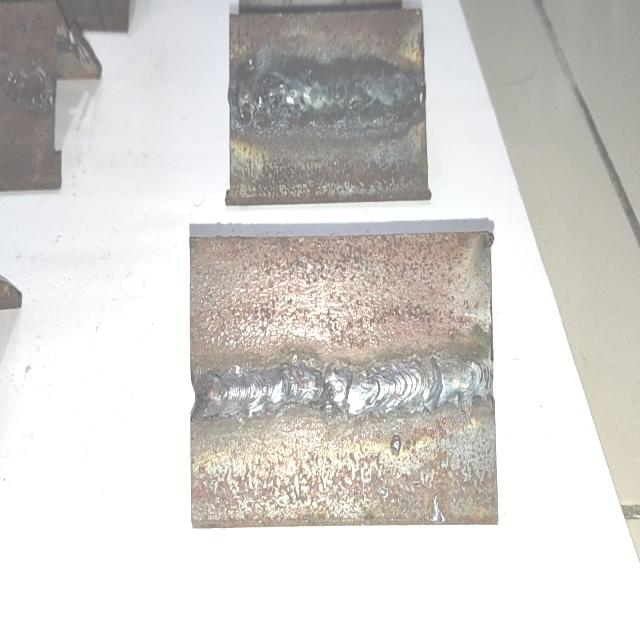Bad Weld: (200, 358, 490, 420), (232, 67, 423, 121)
Defect: (234, 61, 289, 128), (306, 356, 347, 421)
